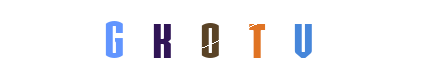0: (165, 0, 245, 80)
G: (121, 0, 201, 80)
K: (165, 0, 245, 80)
T: (183, 0, 263, 80)
V: (217, 0, 297, 80)
